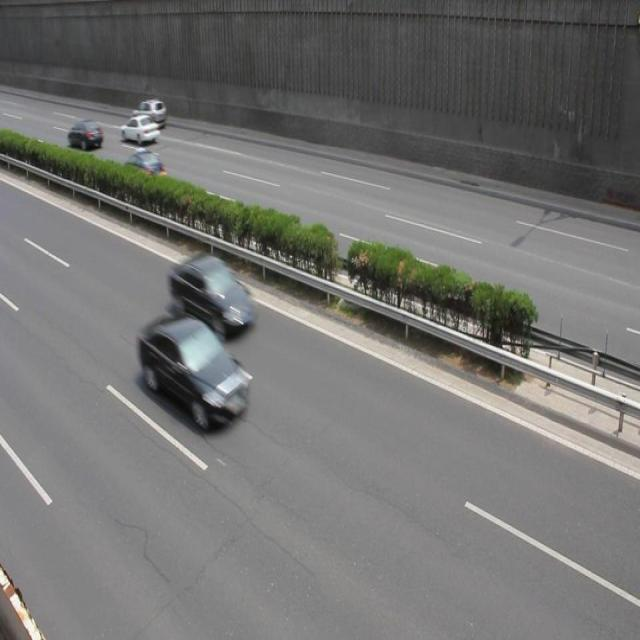car: (139, 316, 250, 432), (169, 253, 258, 341), (121, 148, 167, 192), (120, 114, 160, 147), (68, 119, 103, 151), (132, 99, 168, 130)
